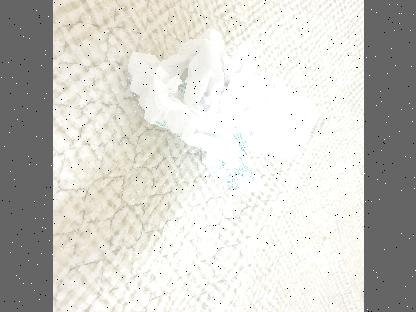Others: (122, 28, 322, 192)
